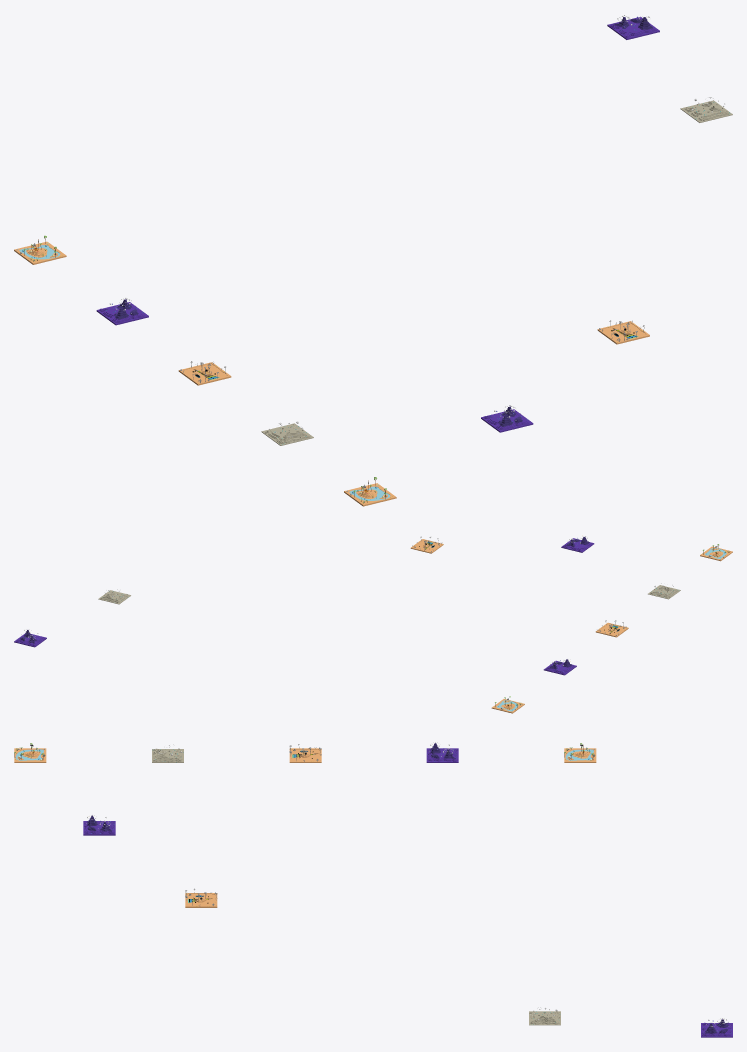
The model's file is White_area_2_D4.fbx.
3 views of the same model, one above another, from view 1: azimuth 30°, elevation 25°; view 2: azimuth 150°, elevation 25°; view 3: azimuth 270°, elevation 25° (orthographic). The views are drawn at different scales.
Visible parts, largest first — view 1: Plane.1191; view 2: Plane.1186, Plane.1189, Plane.1188, Plane.1185, Plane.1191, Plane.1184, Plane.1190; view 3: Plane.1186, Plane.1189, Plane.1191, Plane.1184, Plane.1185, Plane.1190, Plane.1188, Plane.1192.
Part boxes in pixels (x1,y1,x2,y2): Plane.1191: [607, 15, 659, 39]; Plane.1186: [543, 659, 576, 675]; Plane.1189: [561, 536, 594, 552]; Plane.1188: [595, 620, 628, 637]; Plane.1185: [700, 544, 732, 561]; Plane.1191: [14, 629, 46, 647]; Plane.1184: [491, 696, 524, 713]; Plane.1190: [410, 536, 443, 553]; Plane.1186: [426, 742, 458, 762]; Plane.1189: [83, 815, 115, 835]; Plane.1191: [701, 1018, 732, 1037]; Plane.1184: [564, 743, 596, 762]; Plane.1185: [14, 743, 46, 762]; Plane.1190: [185, 888, 217, 907]; Plane.1188: [289, 744, 321, 762]; Plane.1192: [529, 1007, 560, 1025].
Bounding box in the file's own units: 85096 × 1583 × 89699.
Materials: 19 (9 with a texture image).
